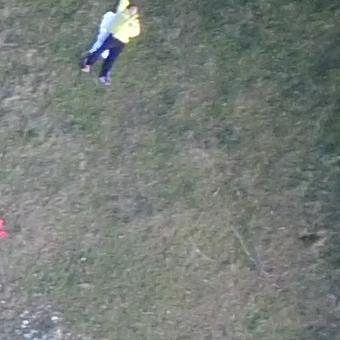human: (82, 1, 141, 85)
